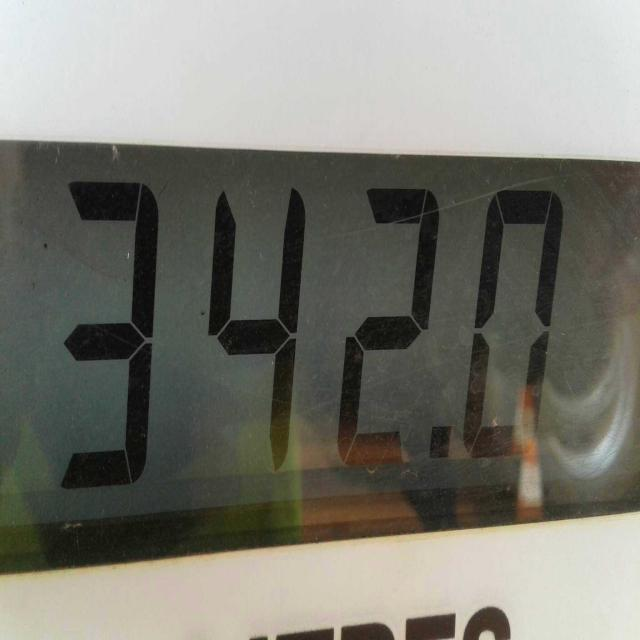.: (427, 409, 474, 500)
0: (460, 182, 579, 463)
2: (338, 186, 433, 456)
3: (70, 179, 168, 476)
4: (205, 186, 304, 460)
